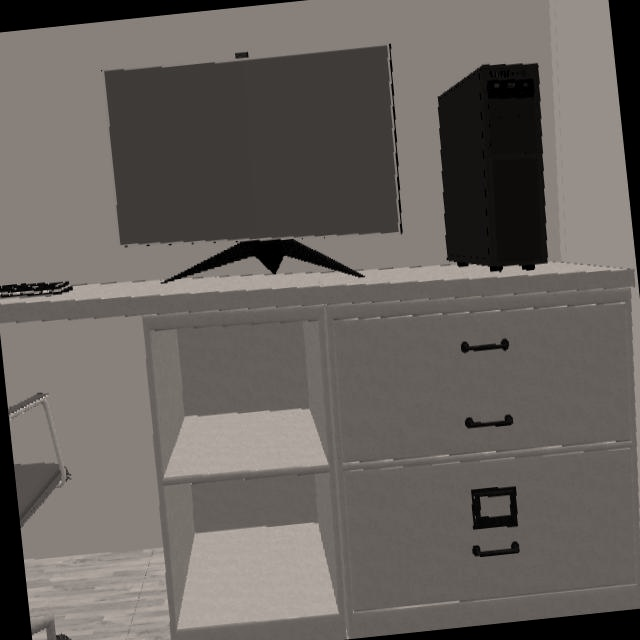cabinet: (143, 263, 640, 640)
chair: (13, 461, 69, 534)
monitor: (103, 46, 404, 247)
